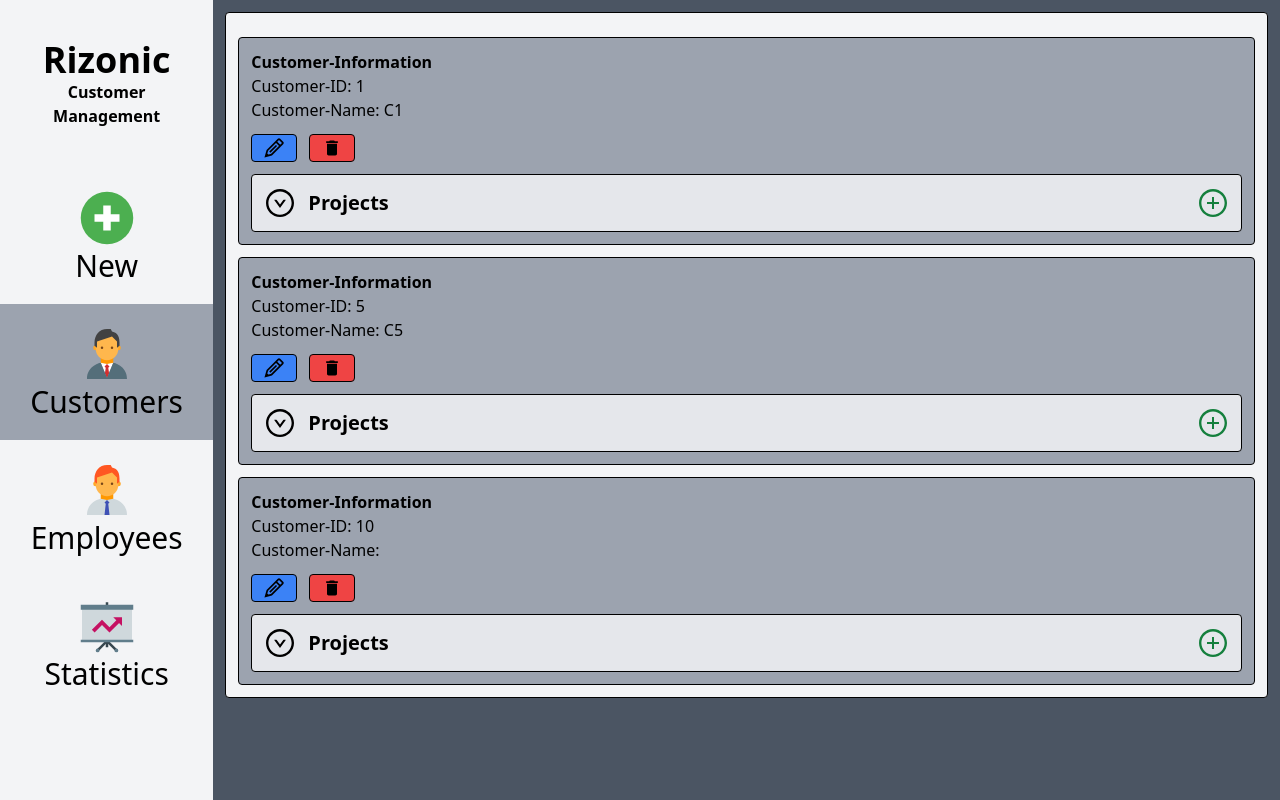
Test: delete customer › open last customer modal
Click the button with test id "delete-customer-icon" at (332, 588), box x1=309 y1=574 x2=355 y2=602
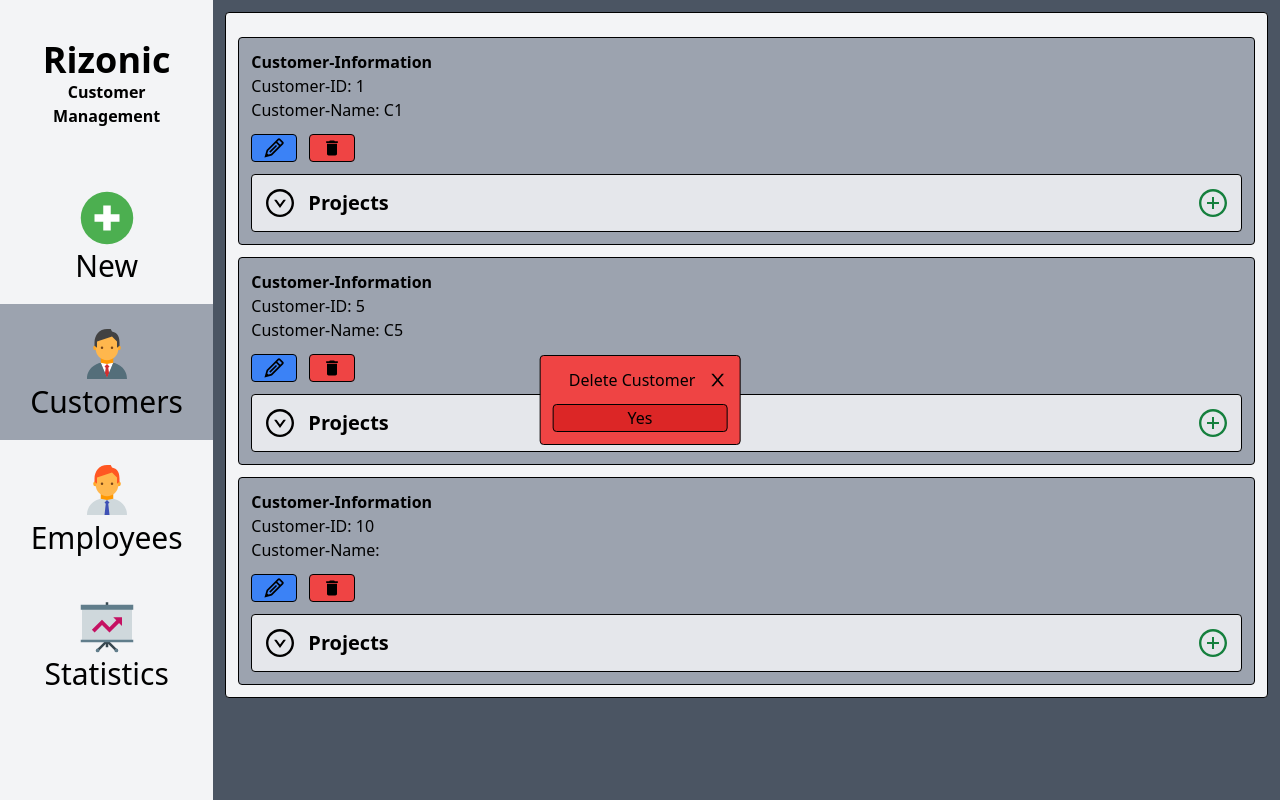
Result: the heading "Delete Customer" is shown at x1=569 y1=368 x2=695 y2=392
